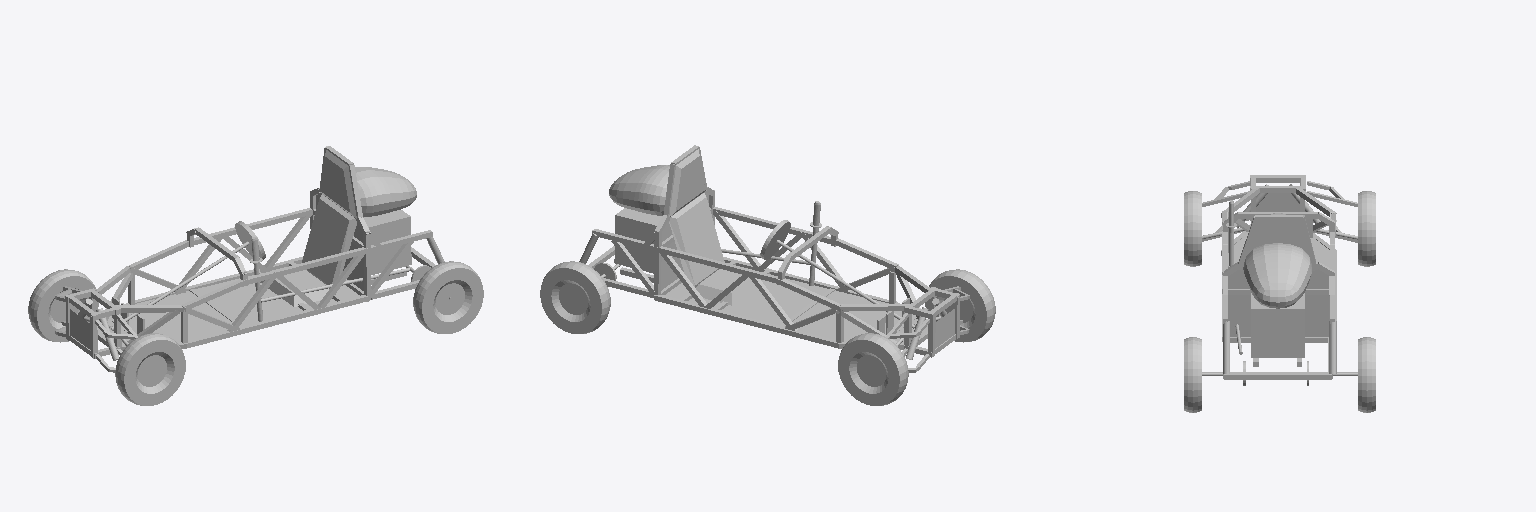
The model's file is gokart_smooth.obj.
3 renders of one model, left to right at view 1: azimuth 30°, elevation 25°; view 2: azimuth 150°, elevation 25°; view 3: azimuth 270°, elevation 25°, orthographic.
Visible parts, largest first — view 1: Plane_Plane.005, Plane.001_Plane, Cylinder.003, Cylinder.019_Cylinder.022, Cylinder.006_Cylinder.009, Cube.062_Cube.025, Cube.003_Cube, Cube.006_Cube.003, Cube.060_Cube.057, Cube.020_Cube.063, Cube.005; view 2: Plane_Plane.005, Plane.001_Plane, Cylinder.006_Cylinder.009, Cylinder.018_Cylinder.021, Cylinder.003, Cube.062_Cube.025, Cube.003_Cube, Cube.005, Cube.020_Cube.063, Cube.060_Cube.057, Cylinder.011, Plane.004 (+1 smaller); view 3: Cube.062_Cube.025, Cube.003_Cube, Plane.004, Cylinder.006_Cylinder.009, Cylinder.003, Cylinder.019_Cylinder.022, Cylinder.018_Cylinder.021, Plane_Plane.005, Cube.002_Cube.028, Plane.003, Plane.001_Plane.
Boxes of the visible parts, x1=… form: Plane_Plane.005: x1=260, y1=150, x2=356, y2=306; Plane.001_Plane: x1=97, y1=267, x2=359, y2=344; Cylinder.003: x1=115, y1=333, x2=185, y2=405; Cylinder.019_Cylinder.022: x1=413, y1=261, x2=483, y2=333; Cylinder.006_Cylinder.009: x1=28, y1=269, x2=98, y2=342; Cube.062_Cube.025: x1=355, y1=167, x2=416, y2=216; Cube.003_Cube: x1=364, y1=210, x2=411, y2=274; Cube.006_Cube.003: x1=187, y1=295, x2=369, y2=347; Cube.060_Cube.057: x1=247, y1=247, x2=368, y2=284; Cube.020_Cube.063: x1=194, y1=208, x2=312, y2=244; Cube.005: x1=135, y1=257, x2=302, y2=303; Plane_Plane.005: x1=669, y1=149, x2=764, y2=305; Plane.001_Plane: x1=664, y1=278, x2=927, y2=342; Cylinder.006_Cylinder.009: x1=838, y1=333, x2=908, y2=405; Cylinder.018_Cylinder.021: x1=540, y1=261, x2=610, y2=333; Cylinder.003: x1=925, y1=269, x2=995, y2=342; Cube.062_Cube.025: x1=609, y1=165, x2=669, y2=215; Cube.003_Cube: x1=614, y1=208, x2=661, y2=273; Cube.005: x1=654, y1=295, x2=838, y2=348; Cube.020_Cube.063: x1=656, y1=246, x2=777, y2=283; Cube.060_Cube.057: x1=713, y1=207, x2=830, y2=243; Cylinder.011: x1=760, y1=220, x2=790, y2=259; Plane.004: x1=661, y1=193, x2=708, y2=290; Cube.062_Cube.025: x1=1243, y1=243, x2=1311, y2=308; Cube.003_Cube: x1=1251, y1=293, x2=1304, y2=357; Plane.004: x1=1228, y1=269, x2=1328, y2=336; Cylinder.006_Cylinder.009: x1=1358, y1=191, x2=1375, y2=266; Cylinder.003: x1=1184, y1=191, x2=1201, y2=266; Cylinder.019_Cylinder.022: x1=1184, y1=337, x2=1201, y2=412; Cylinder.018_Cylinder.021: x1=1358, y1=337, x2=1375, y2=412; Plane_Plane.005: x1=1247, y1=222, x2=1307, y2=254; Cube.002_Cube.028: x1=1224, y1=372, x2=1331, y2=379; Plane.003: x1=1256, y1=193, x2=1299, y2=211; Plane.001_Plane: x1=1228, y1=232, x2=1329, y2=267.
Size of the model in its own units: 4.7 by 2 by 2.15.